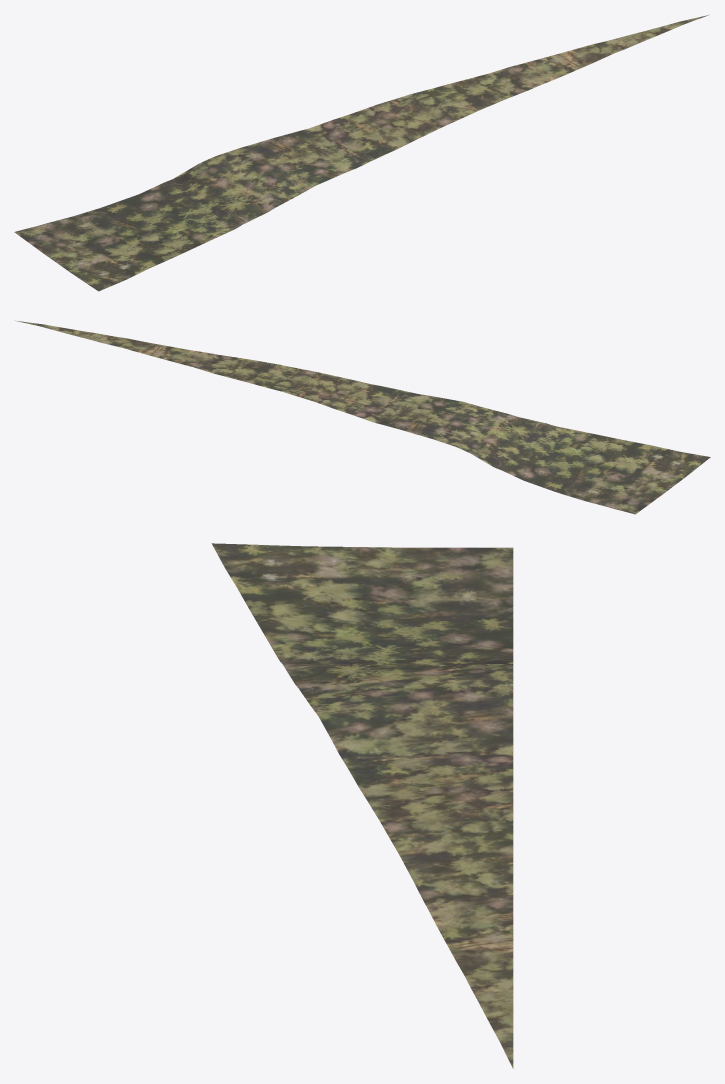
The model's file is CM_Terrain_24493530_6813650.fbx.
3 views of the same model, one above another, from view 1: azimuth 30°, elevation 25°; view 2: azimuth 150°, elevation 25°; view 3: azimuth 270°, elevation 25° (orthographic). The views are drawn at different scales.
Visible parts, largest first — view 1: CM_Terrain_24493530_6813650_LOD0; view 2: CM_Terrain_24493530_6813650_LOD0; view 3: CM_Terrain_24493530_6813650_LOD0.
Boxes of the visible parts, x1,y1,x2,y2 form: CM_Terrain_24493530_6813650_LOD0: (14, 14, 709, 291); CM_Terrain_24493530_6813650_LOD0: (15, 320, 710, 514); CM_Terrain_24493530_6813650_LOD0: (211, 543, 513, 1068).
Size of what is drawn, in the model's own units: 148 by 9.74 by 31.11.
